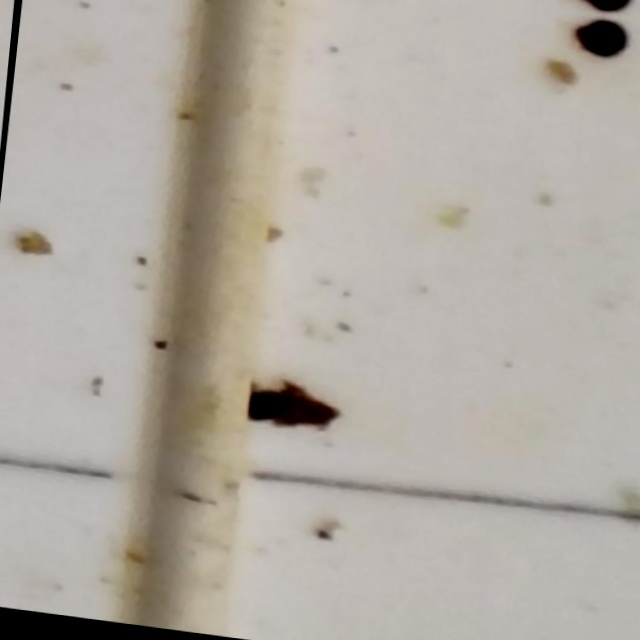varroa: (569, 14, 630, 62)
